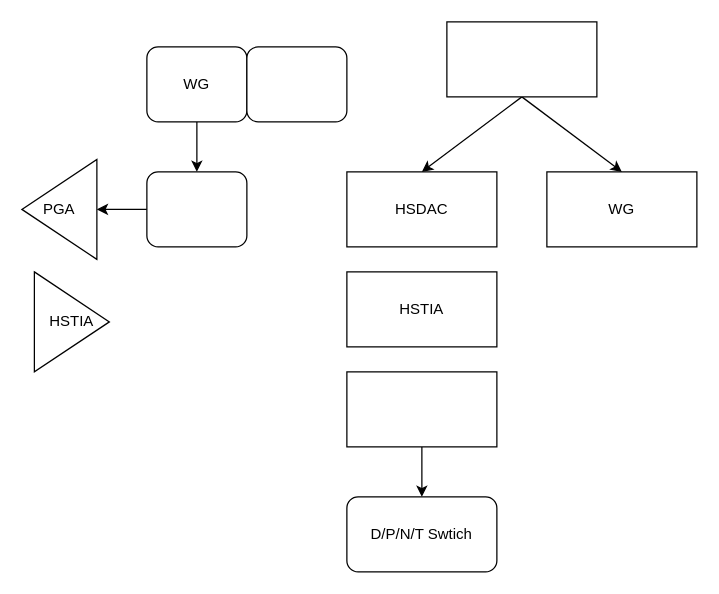
The diagram is 719 pixels wide and 594 high, and some of its shapes have lost their labels. Here are the shapes that lost their labels. From the top down, the centre of each, then its label:
pixel 521 59: HSLoop
pixel 296 84: SineGen
pixel 196 209: DAC
pixel 421 409: SWMat
